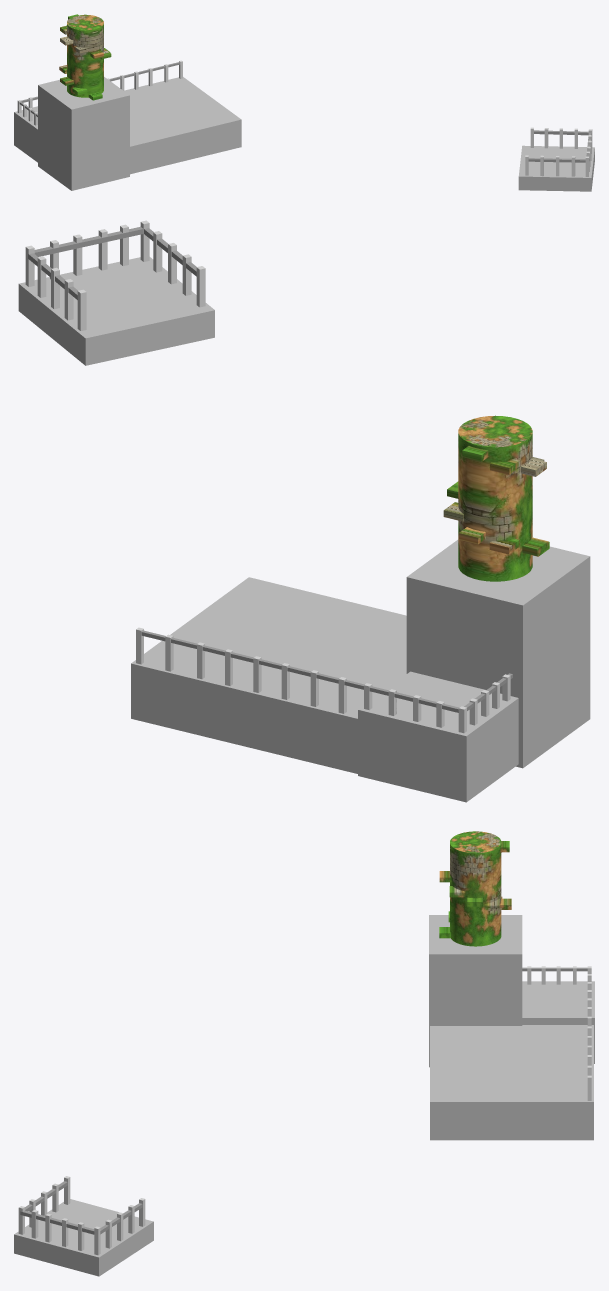
Rendered from Stage_Main.fbx.
The picture shows the model from 3 angles, top to bottom: view 1: azimuth 30°, elevation 25°; view 2: azimuth 150°, elevation 25°; view 3: azimuth 270°, elevation 25°; orthographic projection. The views are drawn at different scales.
Visible parts, largest first — view 1: pasted__pasted__pasted__pasted__pasted__pasted__pCube9; view 2: pasted__pasted__pasted__pasted__pasted__pasted__pCube9; view 3: pasted__pasted__pasted__pasted__pasted__pasted__pCube9.
Part boxes in pixels (bbox=[...]): pasted__pasted__pasted__pasted__pasted__pasted__pCube9: bbox=[14, 14, 594, 191]; pasted__pasted__pasted__pasted__pasted__pasted__pCube9: bbox=[18, 220, 590, 802]; pasted__pasted__pasted__pasted__pasted__pasted__pCube9: bbox=[14, 831, 594, 1276].
Size of the model in its own units: 125 by 44.01 by 112.
